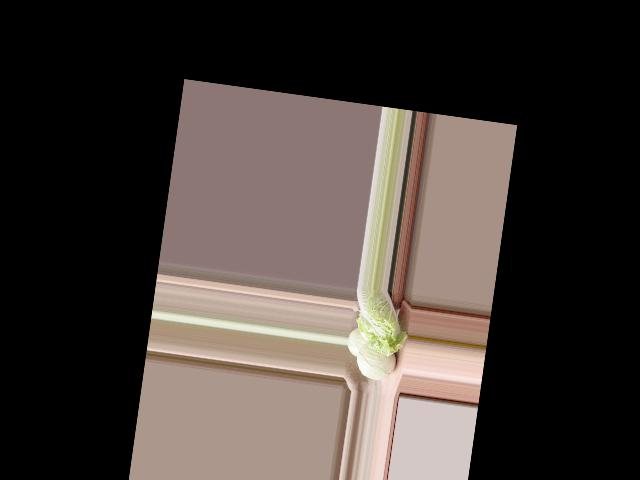lettuce: (350, 288, 414, 358)
